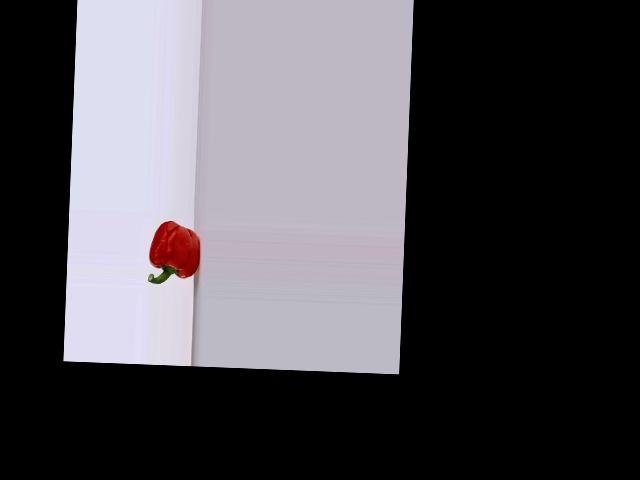bell_pepper: (145, 217, 203, 291)
